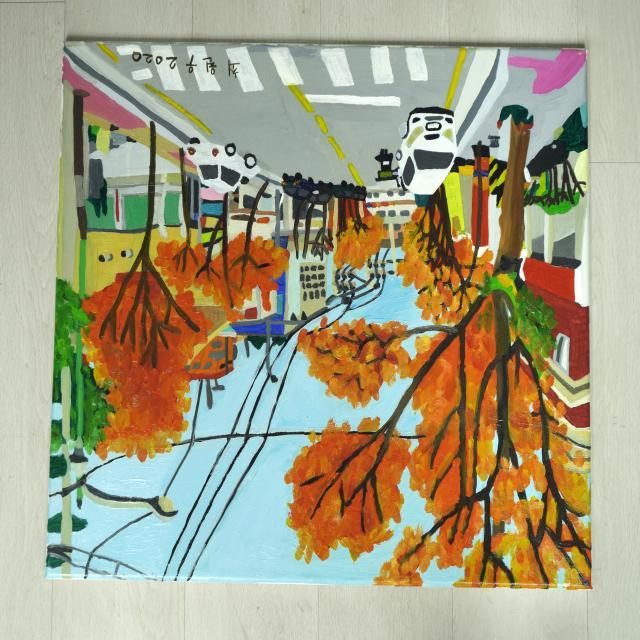painting: (47, 43, 590, 587)
